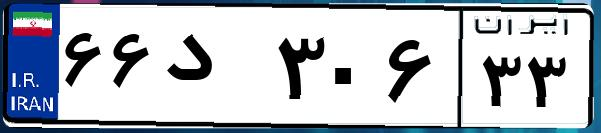0: (330, 28, 385, 110)
3: (270, 28, 330, 110), (475, 38, 525, 113), (525, 38, 570, 115)
6: (385, 28, 445, 110), (57, 26, 110, 100), (110, 28, 158, 98)
د: (158, 20, 270, 120)
